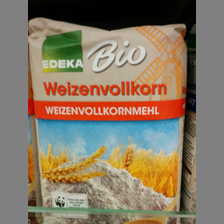flour: (28, 17, 189, 224)
